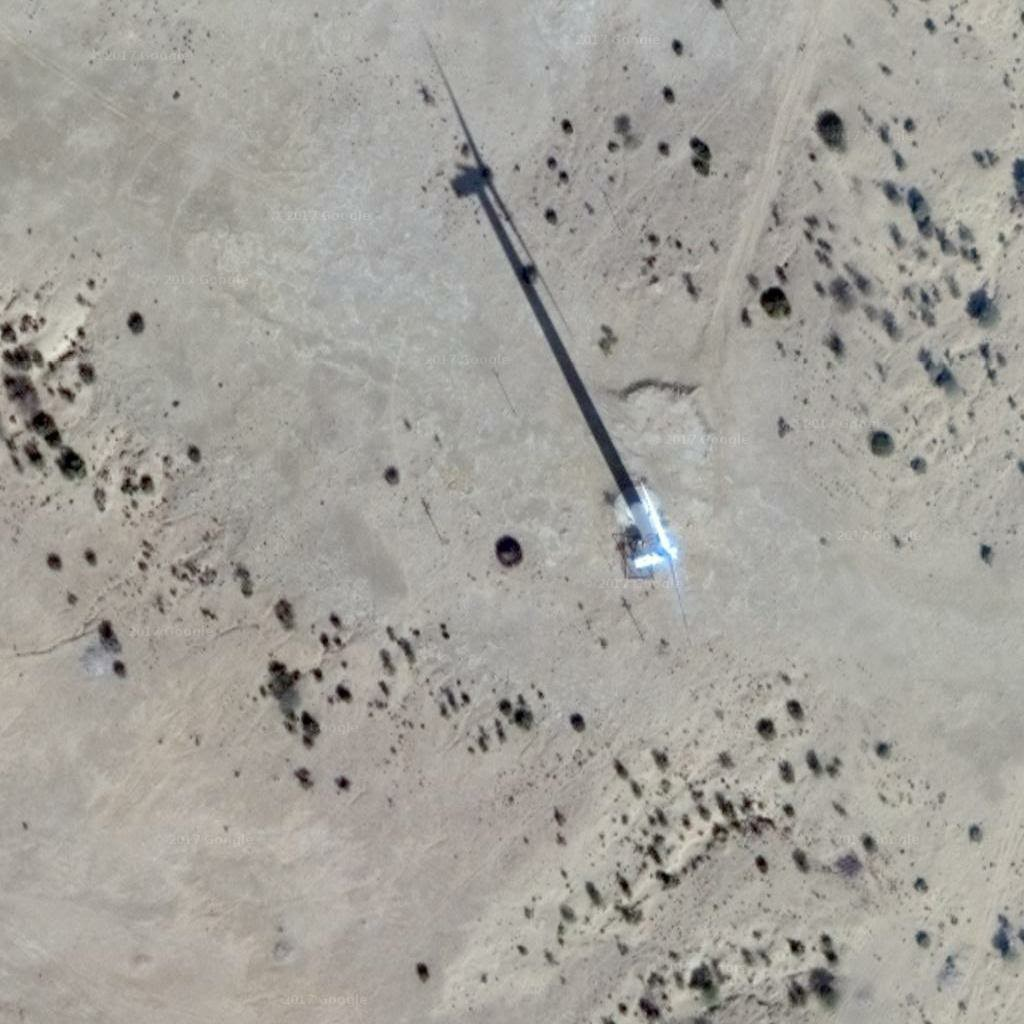Windmill: (407, 29, 655, 499)
